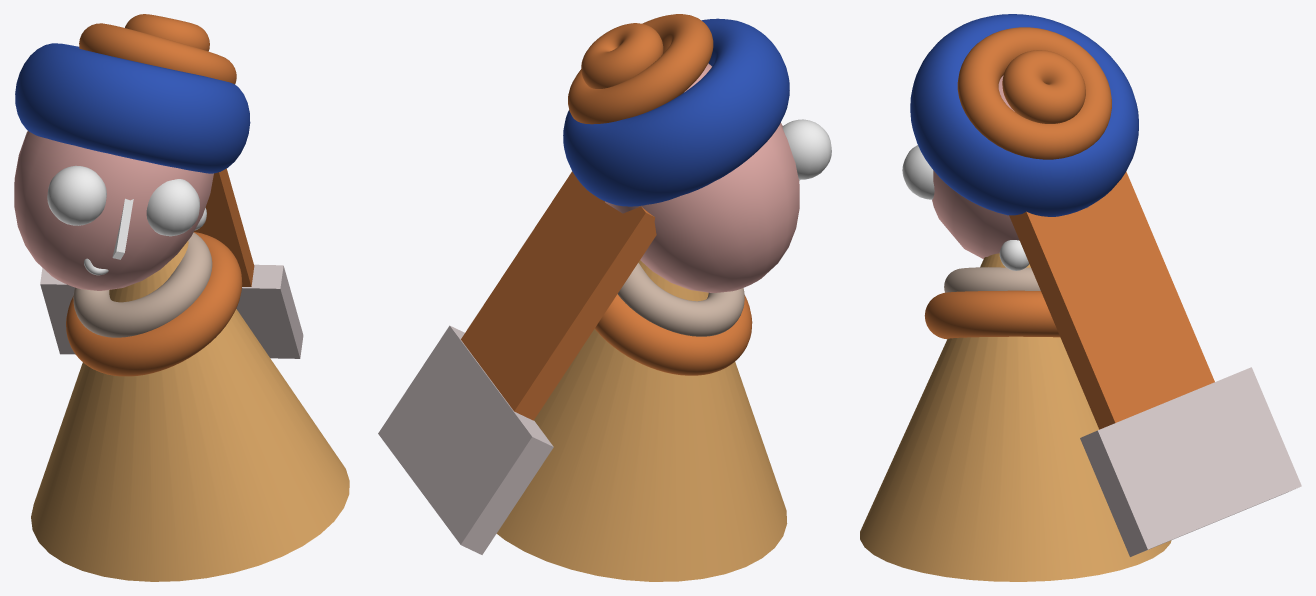
3 renders of one model, left to right at view 1: azimuth 30°, elevation 25°; view 2: azimuth 150°, elevation 25°; view 3: azimuth 270°, elevation 25°, orthographic. The views are drawn at different scales.
Parts seen in each view (by area): view 1: 锥体, 环体, 球体, 环体.002, 环体.004, 立方体.002, 环体.001, 球体.002, 立方体.001, 球体.001, 环体.003, 立方体; view 2: 锥体, 立方体.001, 环体, 立方体.002, 球体, 环体.001, 环体.002, 环体.004, 环体.003, 球体.002; view 3: 锥体, 立方体.001, 立方体.002, 环体, 环体.001, 环体.002, 环体.003, 球体, 环体.004, 球体.001, 球体.005.
Boxes of the visible parts, x1=… form: 锥体: x1=31, y1=241, x2=349, y2=581; 环体: x1=15, y1=43, x2=250, y2=173; 球体: x1=14, y1=131, x2=213, y2=290; 环体.002: x1=66, y1=232, x2=242, y2=376; 环体.004: x1=73, y1=232, x2=212, y2=337; 立方体.002: x1=40, y1=264, x2=303, y2=358; 环体.001: x1=79, y1=23, x2=236, y2=84; 球体.002: x1=47, y1=165, x2=106, y2=225; 立方体.001: x1=194, y1=168, x2=254, y2=286; 球体.001: x1=146, y1=179, x2=199, y2=236; 环体.003: x1=125, y1=14, x2=209, y2=51; 立方体: x1=112, y1=198, x2=133, y2=259; 锥体: x1=496, y1=260, x2=787, y2=581; 立方体.001: x1=461, y1=171, x2=656, y2=420; 环体: x1=563, y1=18, x2=789, y2=206; 立方体.002: x1=378, y1=325, x2=553, y2=554; 球体: x1=605, y1=63, x2=799, y2=292; 环体.001: x1=568, y1=14, x2=713, y2=124; 环体.002: x1=594, y1=294, x2=752, y2=375; 环体.004: x1=618, y1=263, x2=744, y2=336; 环体.003: x1=581, y1=23, x2=663, y2=88; 球体.002: x1=782, y1=119, x2=831, y2=179; 锥体: x1=860, y1=253, x2=1171, y2=581; 立方体.001: x1=1009, y1=171, x2=1214, y2=429; 立方体.002: x1=1080, y1=367, x2=1301, y2=556; 环体: x1=910, y1=14, x2=1138, y2=216; 环体.001: x1=957, y1=27, x2=1111, y2=159; 环体.002: x1=924, y1=290, x2=1059, y2=339; 环体.003: x1=1002, y1=50, x2=1085, y2=123; 球体: x1=932, y1=75, x2=1089, y2=258; 环体.004: x1=944, y1=267, x2=1040, y2=292; 球体.001: x1=902, y1=145, x2=934, y2=199; 球体.005: x1=999, y1=240, x2=1029, y2=270.
Size of the model in its own units: 4.32 by 5.98 by 4.84.
